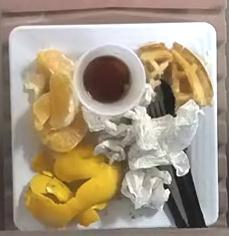fruit: (23, 49, 87, 152)
waffle: (139, 42, 212, 107)
